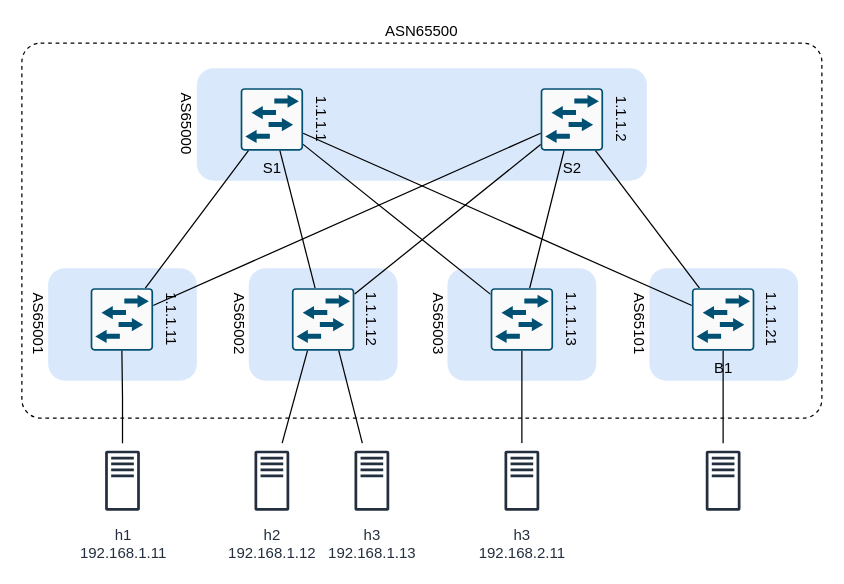
This 844x584 diagram has some shape labels left out. The shapes that lost their labels are listed below. From the top down, each one's centre as x and y in pixels, then its label:
point 121,319: L1
point 322,319: L2
point 521,319: L3
point 722,480: h4 (sFlow) 192.168.2.11
